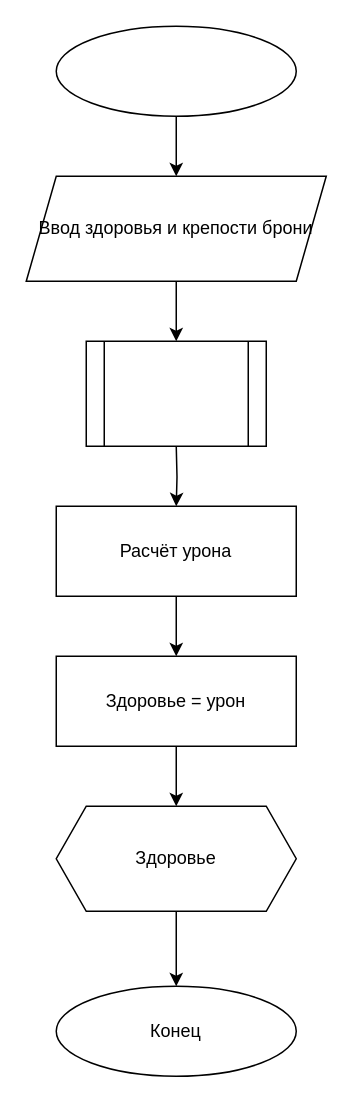
The diagram is 353 pixels wide and 1103 high, and some of its shapes have lost their labels. The shapes that lost their labels are listed below. From the top down, each one's box as (x1, y1, x2, y2) in pixels, then its label:
(55, 25, 296, 116): Начало
(85, 340, 266, 446): Расчёт удара
